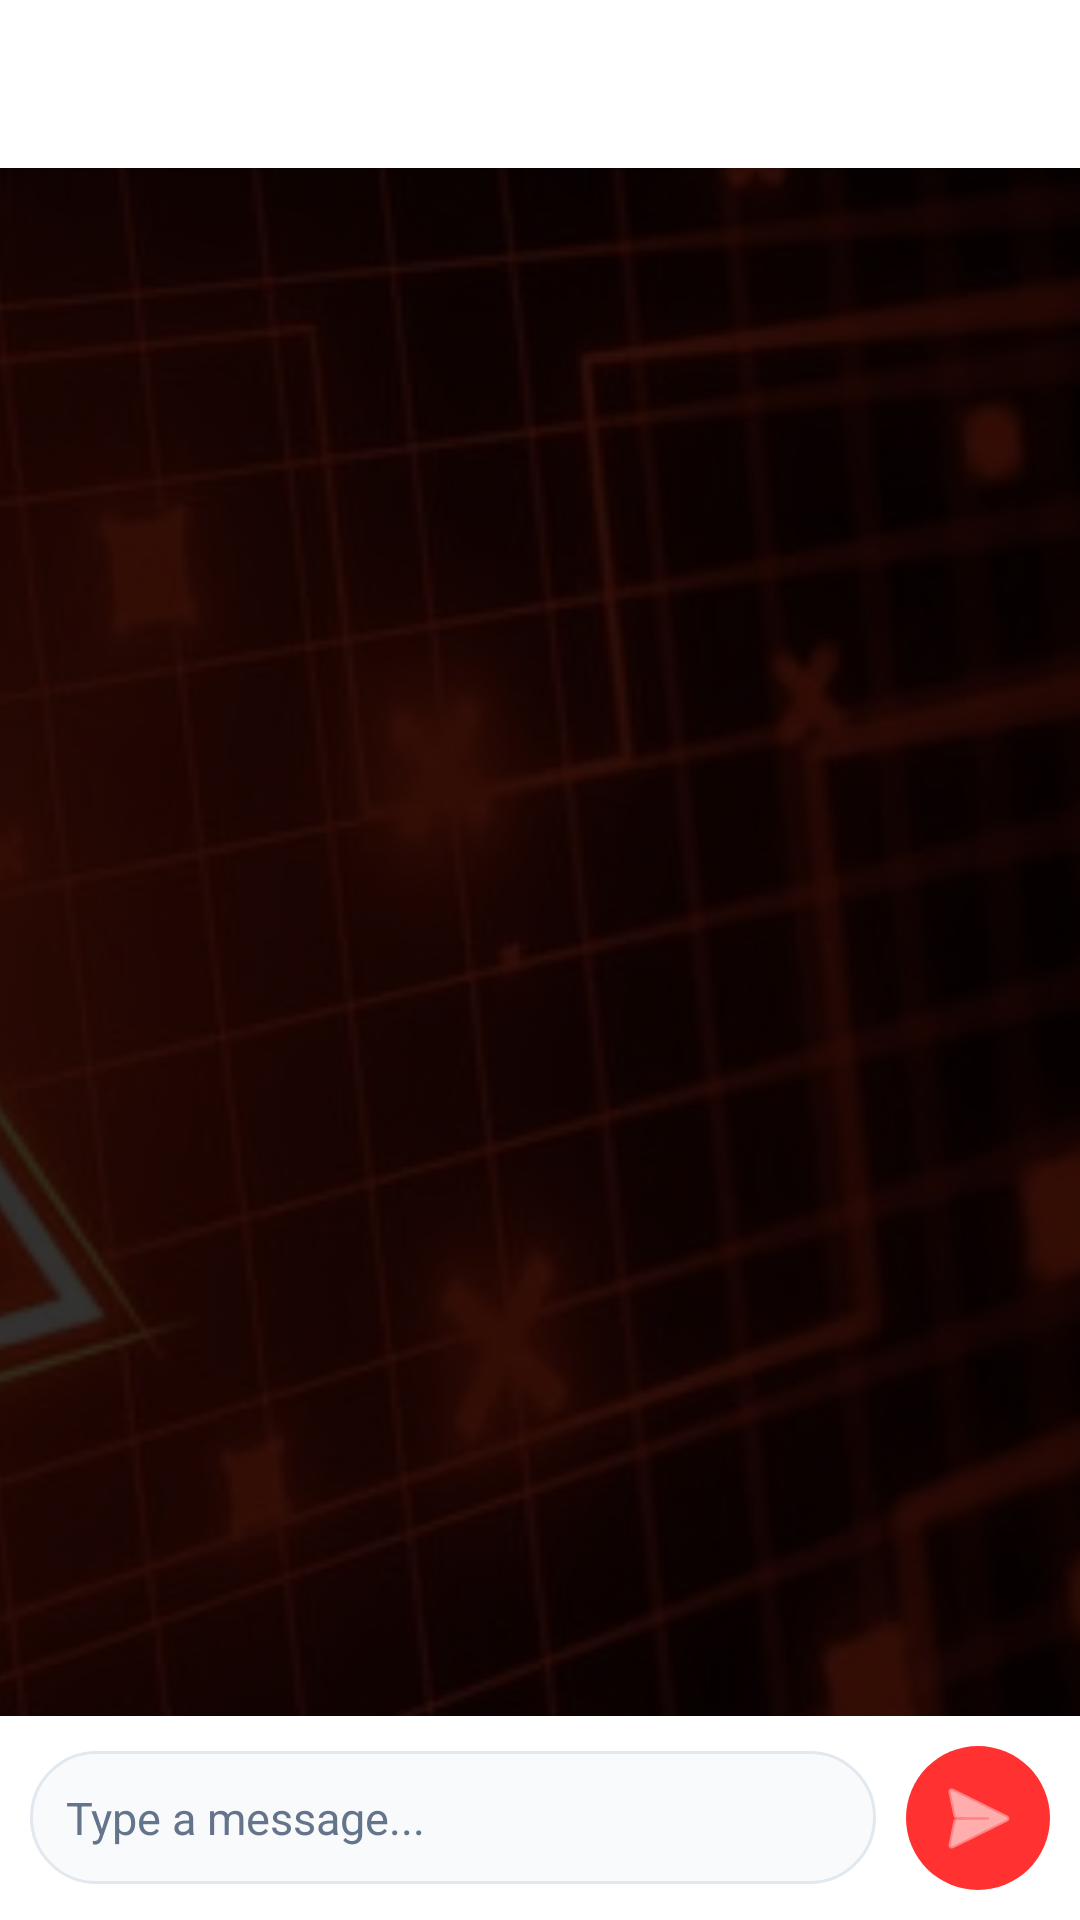

Icons on this 1080x1920 Android screen, each with the point to tap as (x=x, y=y):
Send: (x=978, y=1818)
